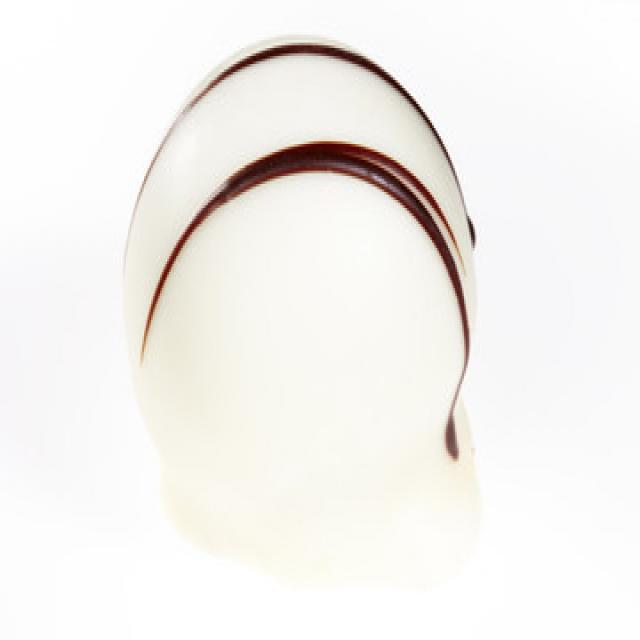chocolate: (121, 33, 475, 543)
